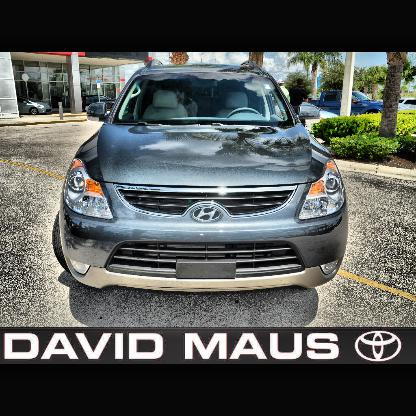Hyundai Veracruz SUV 2012: (53, 66, 348, 295)
